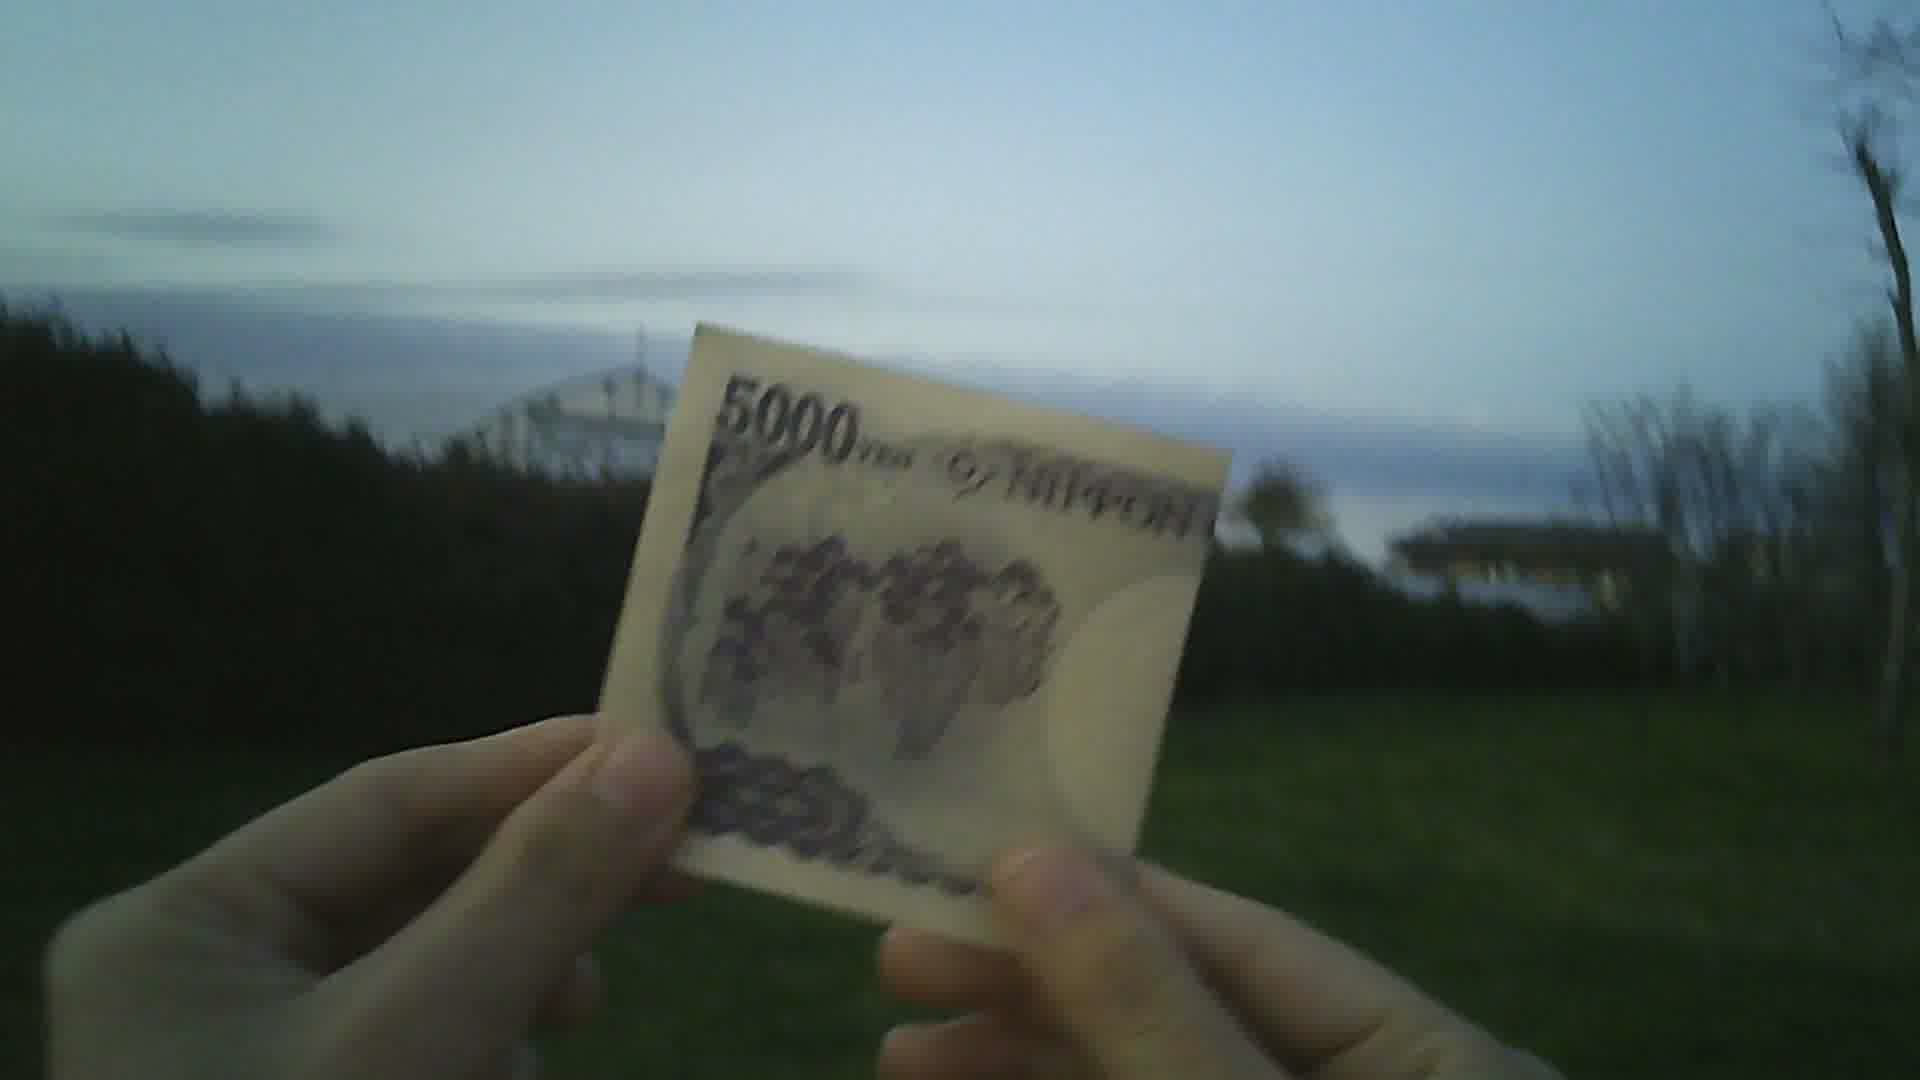5,000 Yen: (597, 314, 1237, 952)
